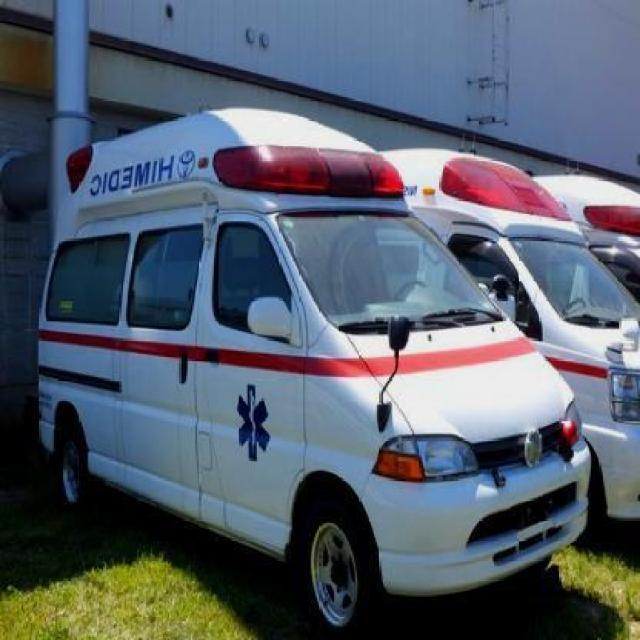emergency: (31, 106, 592, 634), (289, 146, 639, 524), (478, 172, 638, 536)
